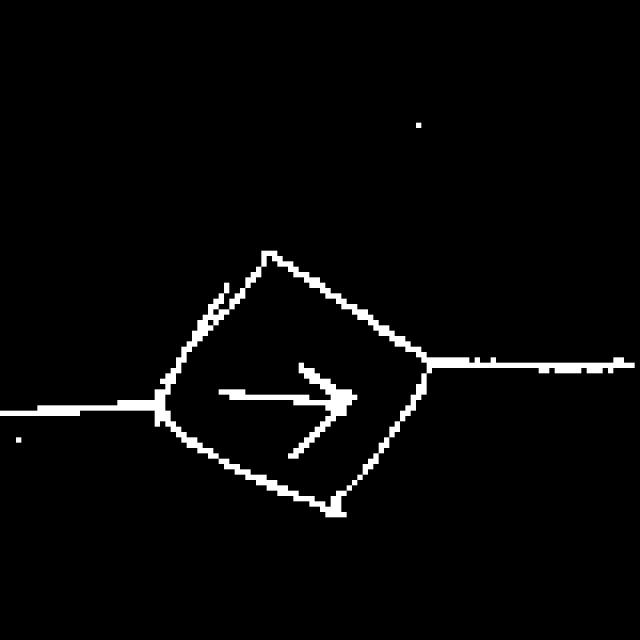dependant_current: (150, 248, 441, 520)
